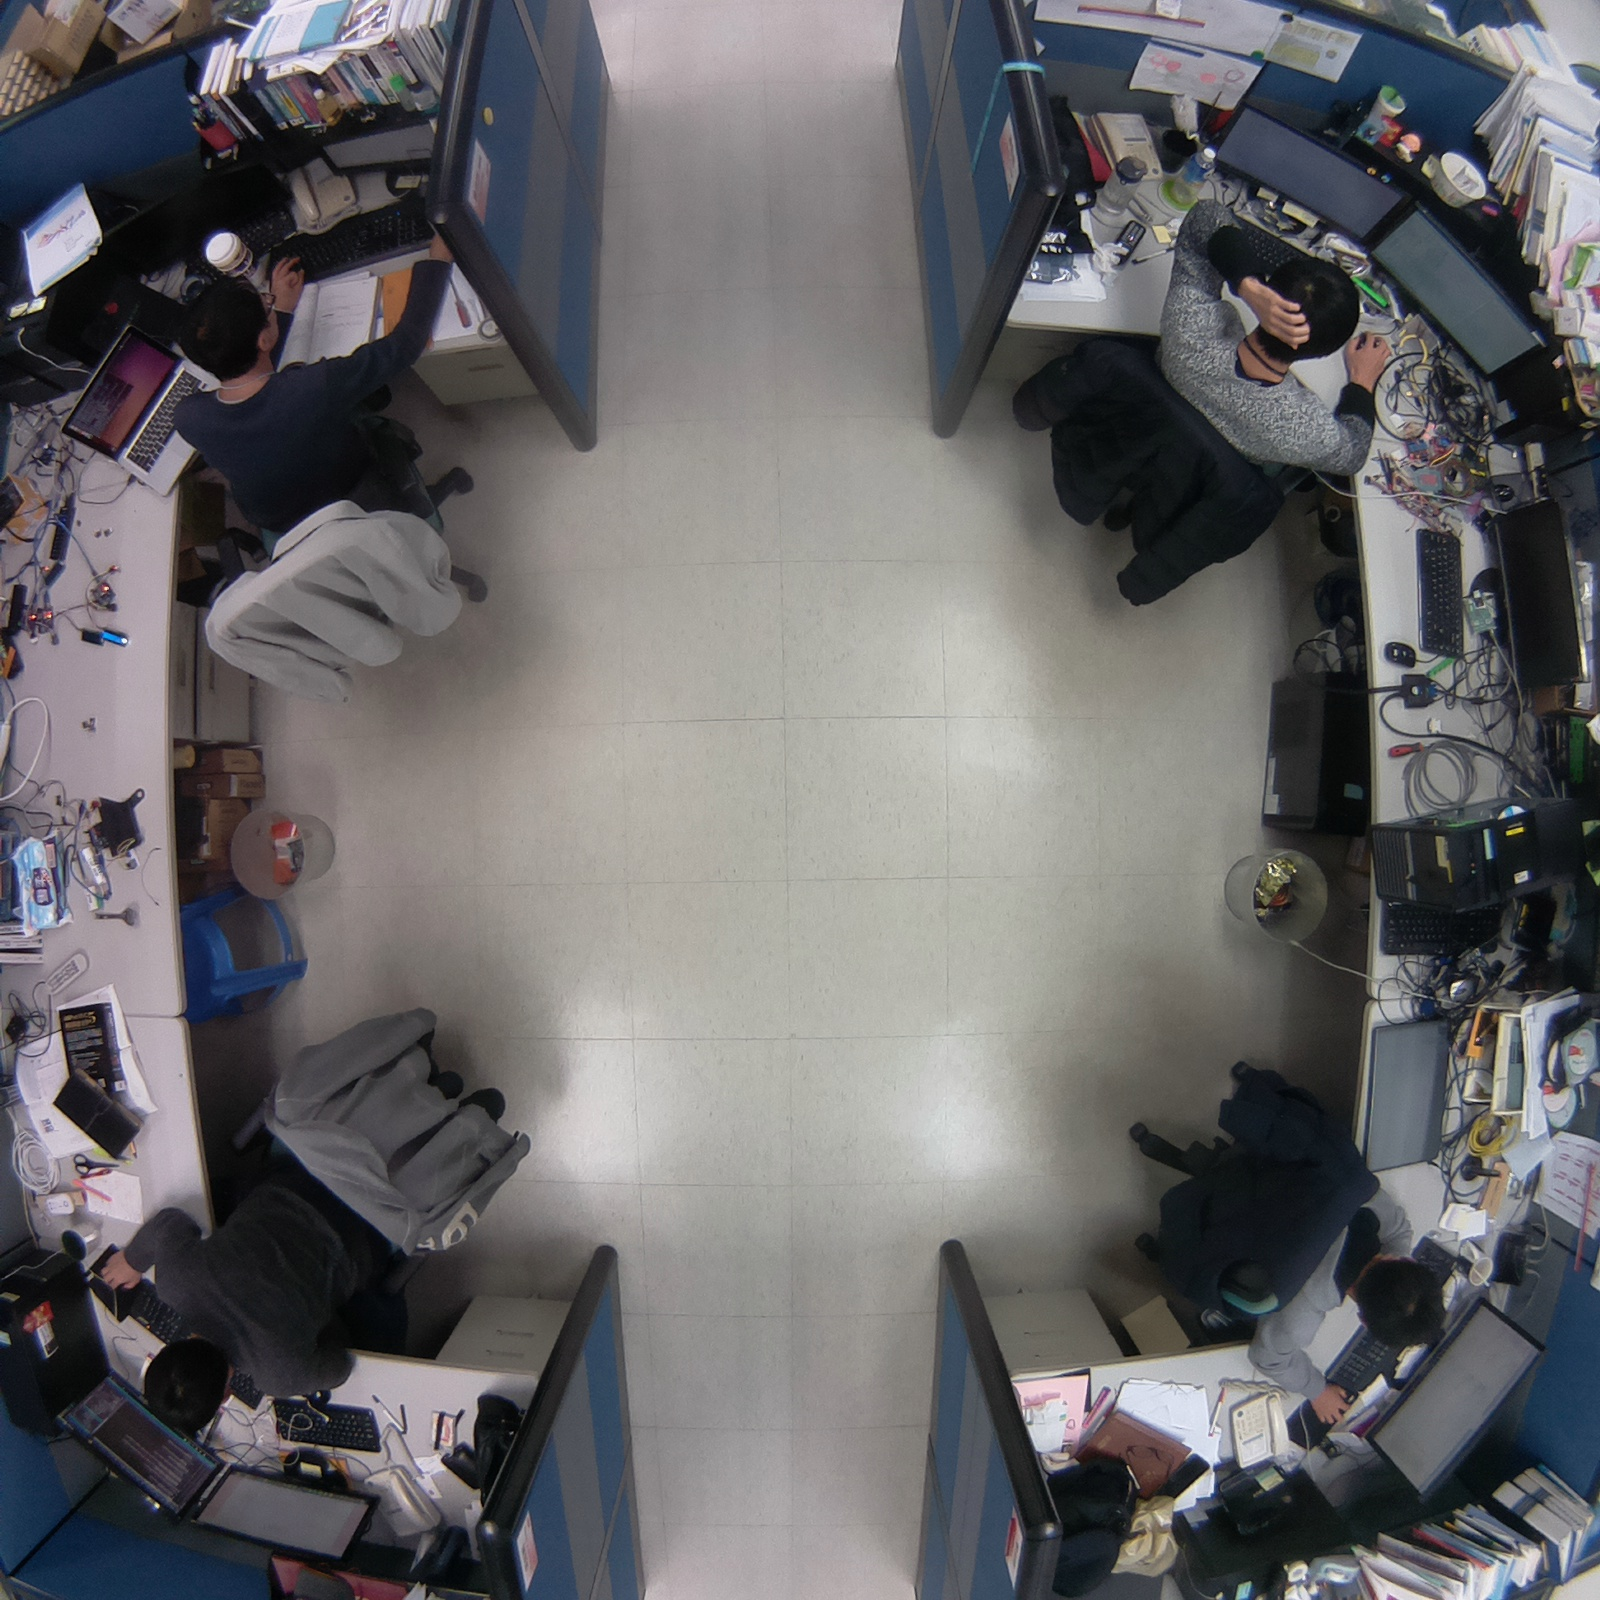head: (1336, 1246, 1455, 1363), (170, 261, 283, 382), (1251, 248, 1368, 363), (136, 1327, 238, 1440)
sitting: (98, 988, 553, 1437), (1006, 198, 1403, 634), (160, 277, 506, 714), (1099, 1047, 1458, 1437)
